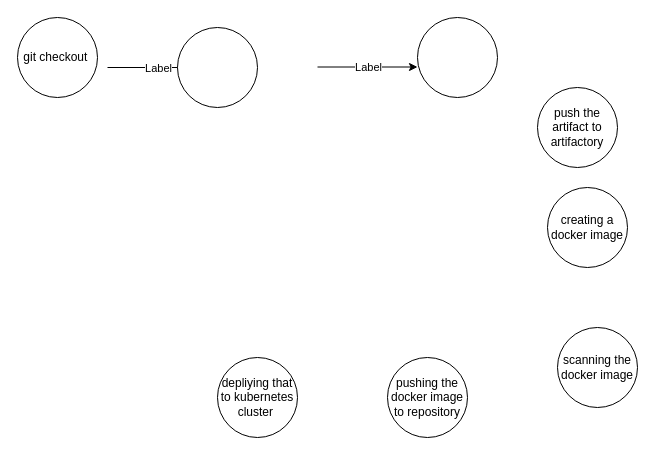
Image size: 655x455. Some labels were removed from this diagram. The shapes that lost their labels are listed below. From the top down, each one's box as (x1, y1, x2, y2) in pixels, then its label:
(176, 26, 258, 108): build using maven
(416, 16, 498, 98): sonarqube scans
